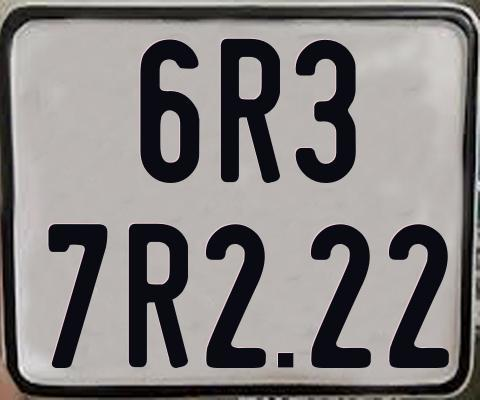2: (205, 223, 270, 369), (388, 224, 452, 368), (310, 221, 370, 368)
3: (294, 38, 354, 181)
6: (137, 39, 198, 183)
7: (47, 223, 110, 367)
R: (221, 38, 286, 183), (126, 221, 188, 365)
